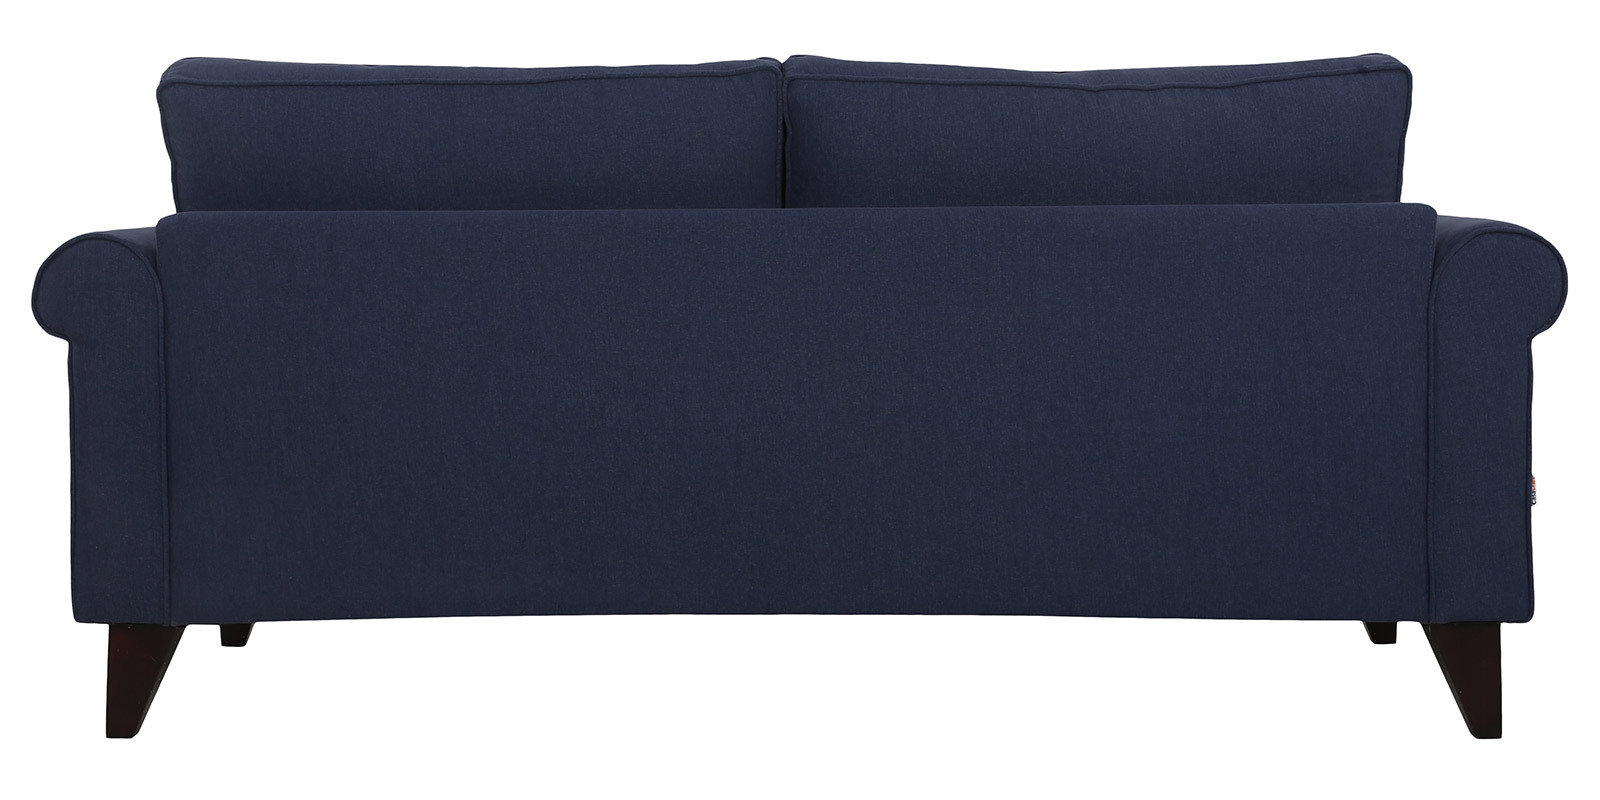Fuego Three Seater Sofa in Navy Blue Colour by CasaCraft: (20, 37, 1584, 785)
